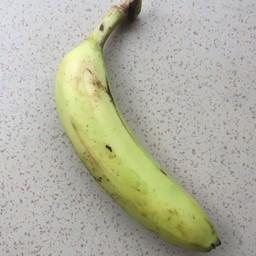Banana Ripe: (42, 38, 233, 256)
